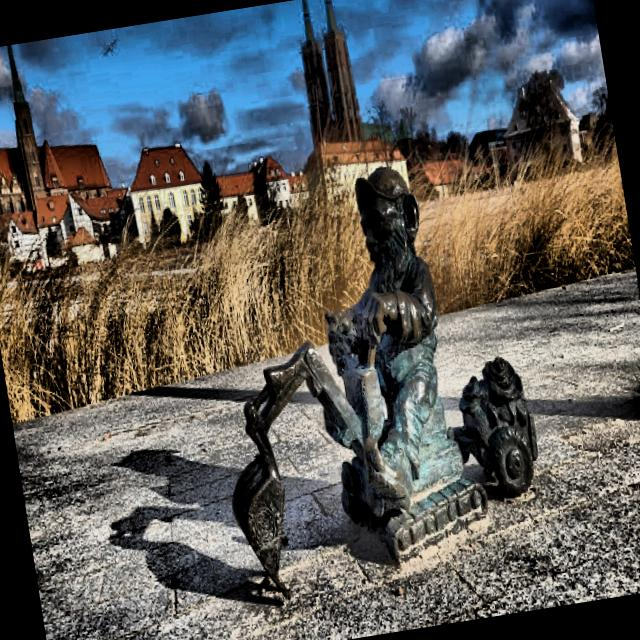Koparkus: (234, 167, 537, 595)
